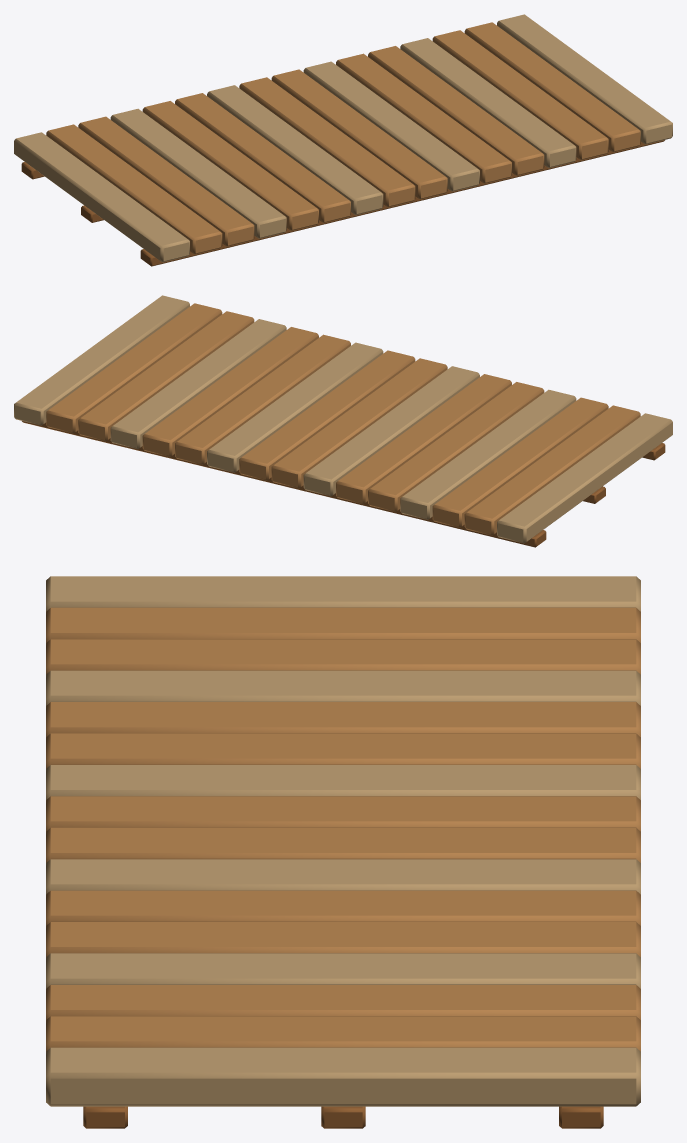
File: 136_module_planches.fbx
3 views of the same model, one above another, from view 1: azimuth 30°, elevation 25°; view 2: azimuth 150°, elevation 25°; view 3: azimuth 270°, elevation 25° (orthographic). The views are drawn at different scales.
Parts seen in each view (by area): view 1: Planches; view 2: Planches; view 3: Planches.
Boxes of the visible parts, x1,y1,x2,y2 form: Planches: [14, 14, 672, 266]; Planches: [14, 295, 672, 547]; Planches: [46, 576, 640, 1128].
Bounding box in the file's own units: 2.24 × 0.112 × 1.12.
1 material, 1 textured.
